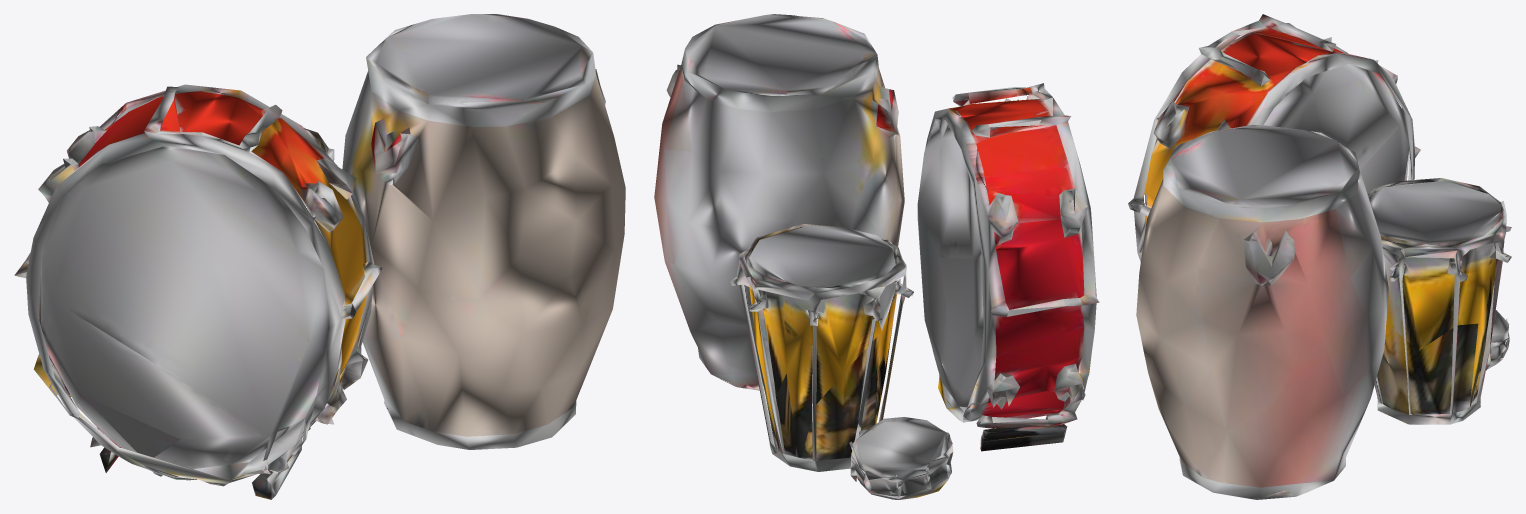
File: fv_drums.glb
3 views of the same model, side by side, from view 1: azimuth 30°, elevation 25°; view 2: azimuth 150°, elevation 25°; view 3: azimuth 270°, elevation 25° (orthographic). The views are drawn at different scales.
Visible parts, largest first — view 1: fv_drums; view 2: fv_drums; view 3: fv_drums.
Boxes of the visible parts, x1,y1,x2,y2 form: fv_drums: (14,14,625,499); fv_drums: (654,14,1099,499); fv_drums: (1128,14,1511,499).
Bounding box in the file's own units: 1.4 × 0.8922 × 0.9965.
Materials: 1 (1 with a texture image).
